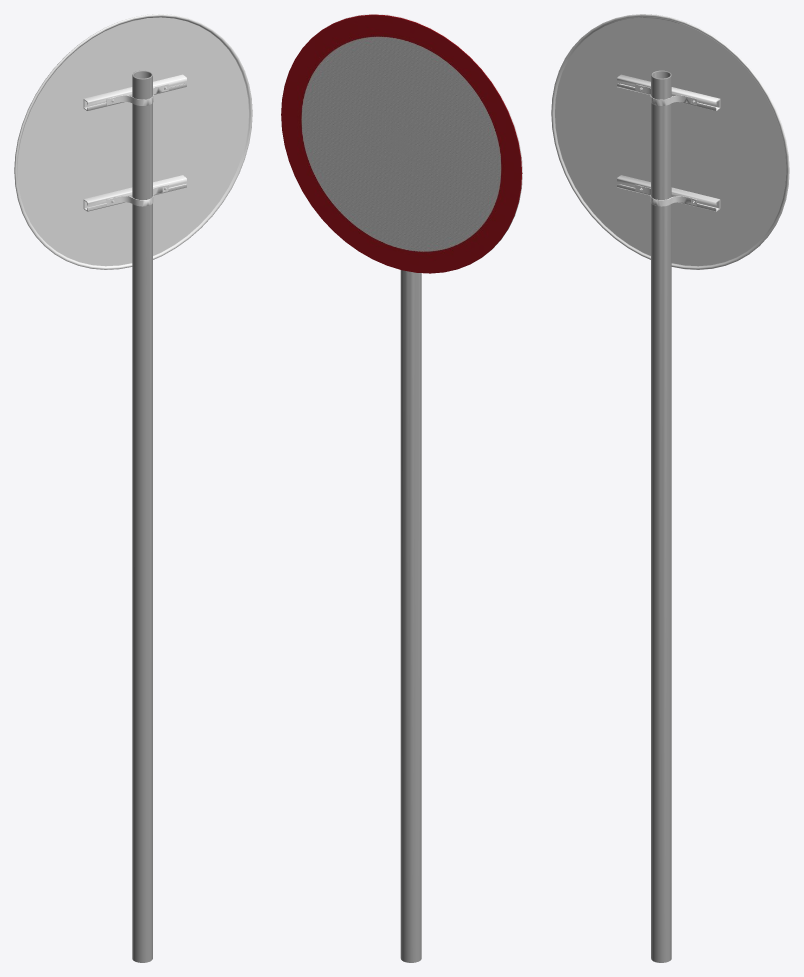
File: o3_segnale_07.glb
3 views of the same model, side by side, from view 1: azimuth 30°, elevation 25°; view 2: azimuth 150°, elevation 25°; view 3: azimuth 330°, elevation 25° (orthographic).
Visible parts, largest first — view 1: sb_modello; view 2: sb_modello; view 3: sb_modello.
Boxes of the visible parts, x1=… form: sb_modello: x1=14, y1=14, x2=252, y2=962; sb_modello: x1=281, y1=14, x2=522, y2=962; sb_modello: x1=551, y1=14, x2=789, y2=962.
Size of the model in its own units: 0.7672 by 2.88 by 0.0839.
Materials: 5 (1 with a texture image).
